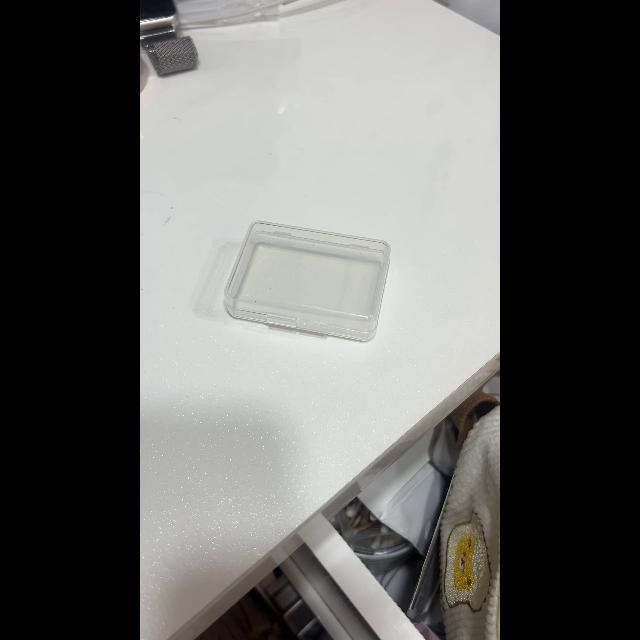clean: (222, 220, 392, 340)
